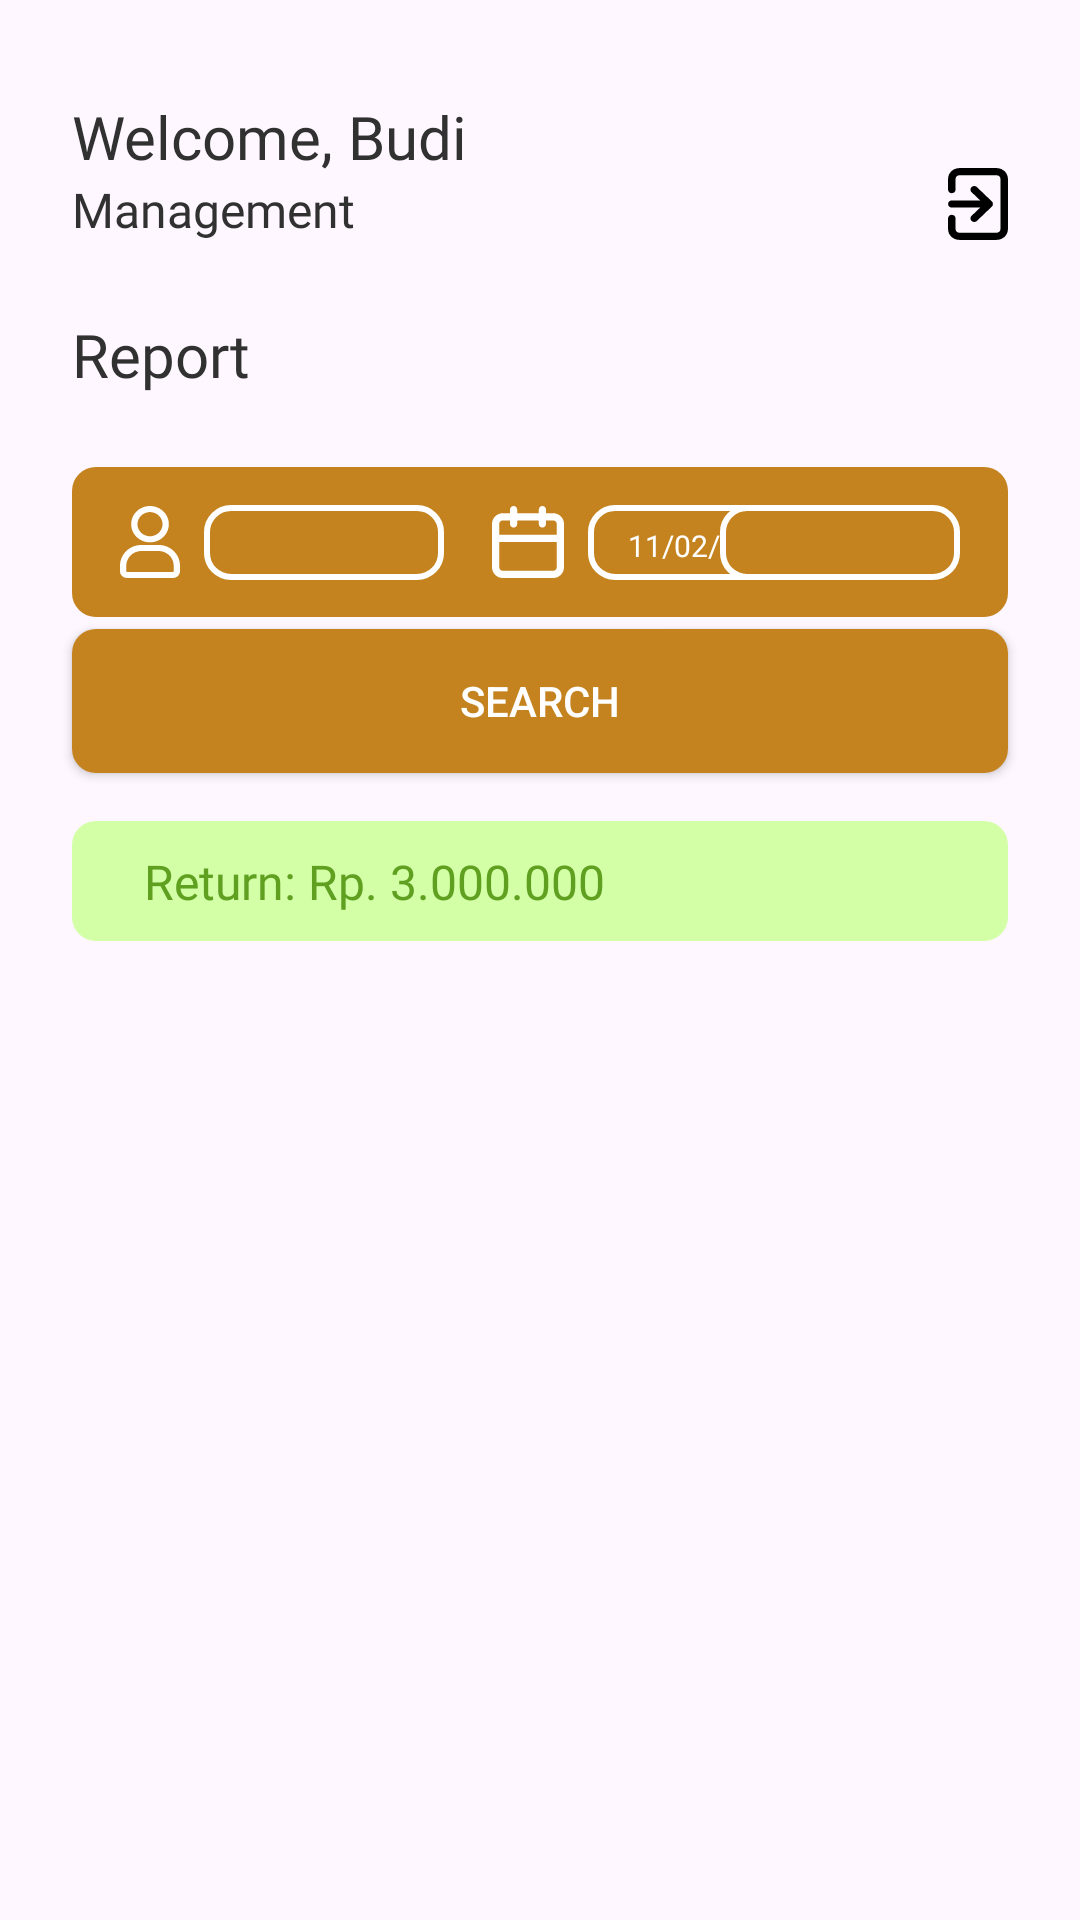

Named icons in this screenshot (1080x1920) and their centers, (x,y):
date: (528,542)
profile: (150,542)
